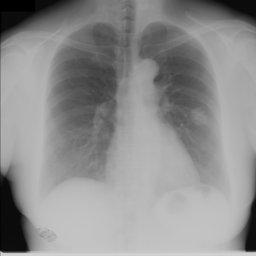left lobe: (140, 24, 216, 180)
right lobe: (50, 24, 117, 180)
